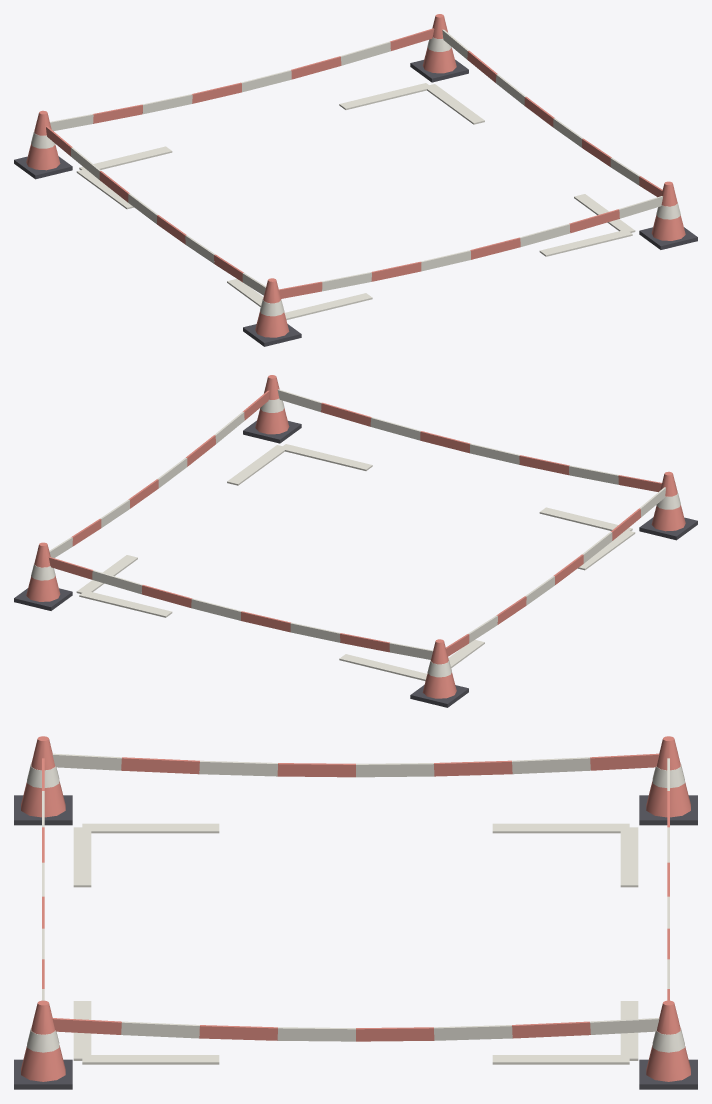
The model's file is village.cityplot.glb.
3 views of the same model, one above another, from view 1: azimuth 30°, elevation 25°; view 2: azimuth 150°, elevation 25°; view 3: azimuth 270°, elevation 25° (orthographic). The views are drawn at different scales.
Parts seen in each view (by area): view 1: Bone, FruitRed, Rubber; view 2: Bone, FruitRed, Rubber; view 3: Bone, FruitRed, Rubber.
Part boxes in pixels (left/top/right/bottom): Bone: left=31, top=29, right=680, bottom=320; FruitRed: left=26, top=14, right=685, bottom=337; Rubber: left=14, top=59, right=697, bottom=346; Bone: left=31, top=389, right=680, bottom=681; FruitRed: left=26, top=375, right=685, bottom=698; Rubber: left=14, top=420, right=697, bottom=707; Bone: left=27, top=753, right=684, bottom=1064; FruitRed: left=21, top=736, right=690, bottom=1081; Rubber: left=14, top=795, right=697, bottom=1089.
Bounding box in the file's own units: 3.5 × 0.42 × 3.5.
